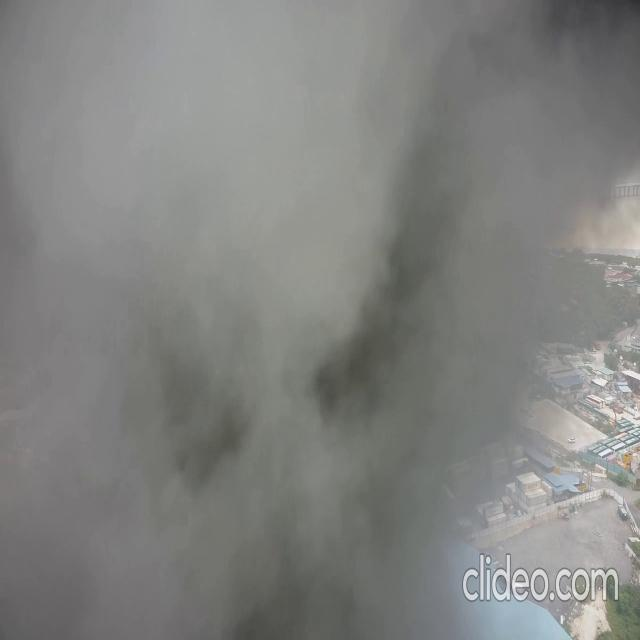Smoke: (1, 1, 491, 640)
